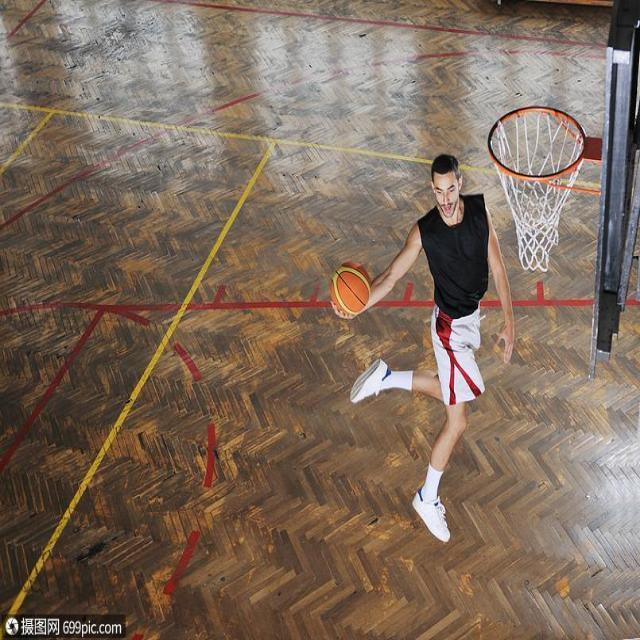rim: (332, 262, 369, 316)
